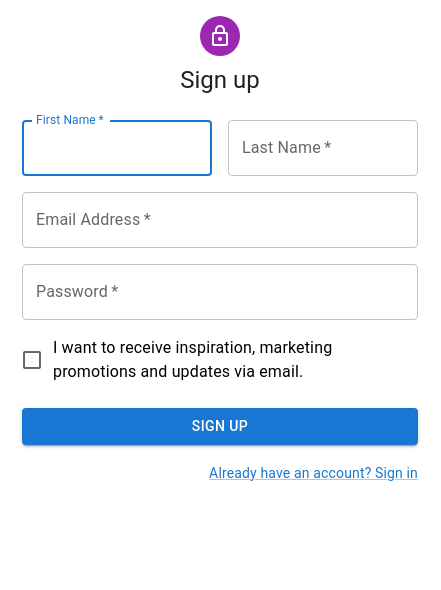
SignUp Component › Test case for required fields of signup
Click the button "Sign up".
click(220, 426)  # box x1=22 y1=408 x2=418 y2=444
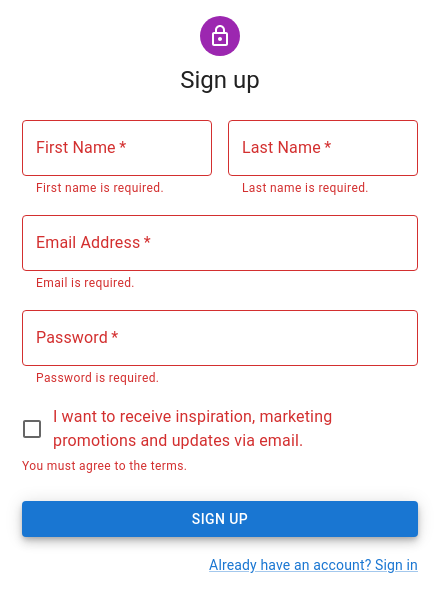
expect the text "First name is required." is shown: met, box x1=36 y1=181 x2=164 y2=195
expect the text "Last name is required." is shown: met, box x1=242 y1=181 x2=369 y2=195
expect the text "Email is required." is shown: met, box x1=36 y1=276 x2=135 y2=290
